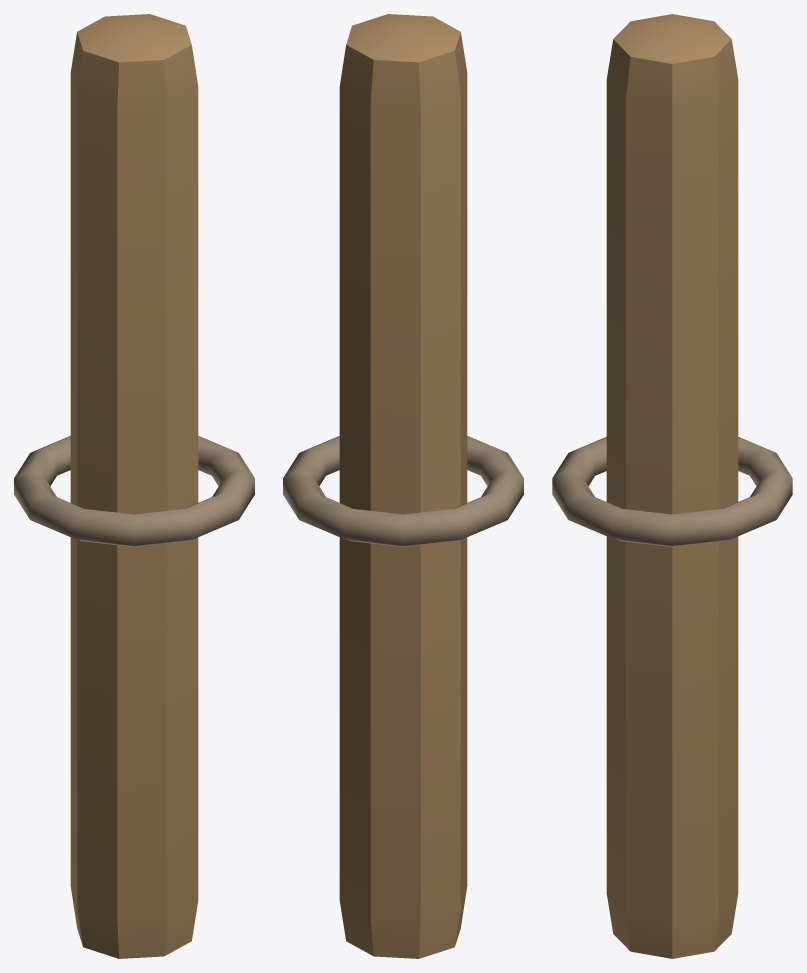
File: dan-bong.glb
The picture shows the model from 3 angles, left to right: view 1: azimuth 30°, elevation 25°; view 2: azimuth 150°, elevation 25°; view 3: azimuth 270°, elevation 25°; orthographic projection.
Visible parts, largest first — view 1: dan-bong; view 2: dan-bong; view 3: dan-bong.
Part boxes in pixels (x1,y1,x2,y2): dan-bong: (14,14,254,958); dan-bong: (283,14,523,958); dan-bong: (552,14,792,958).
Bounding box in the file's own units: 0.0804 × 0.34 × 0.0804.
